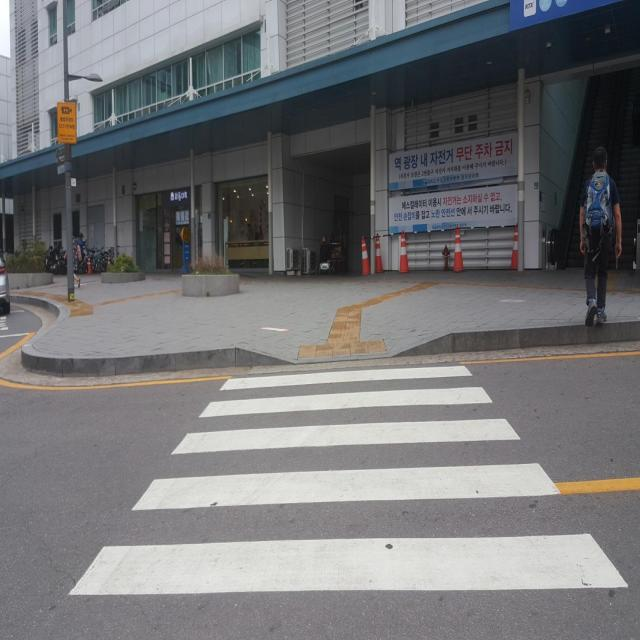횡단보도: (67, 361, 630, 598)
